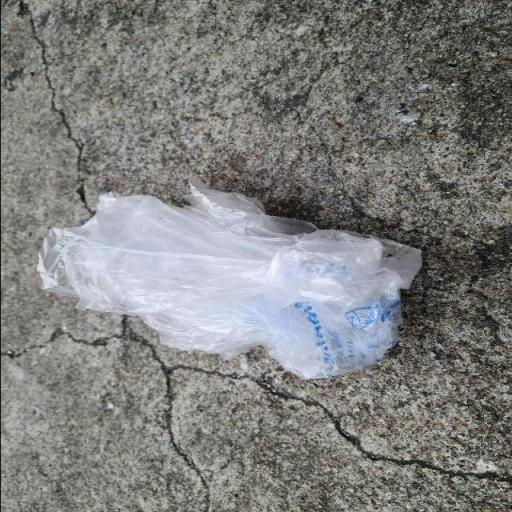plastic-bag: (31, 172, 423, 380)
